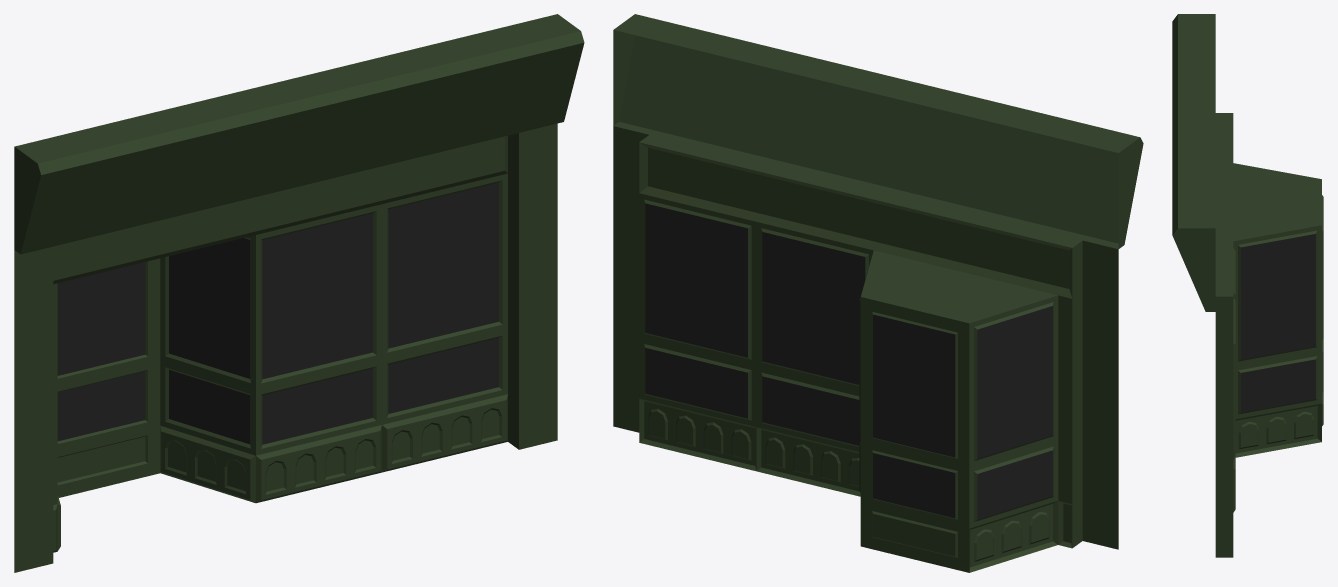
Rendered from ShopFrontB.fbx.
The picture shows the model from 3 angles, left to right: view 1: azimuth 30°, elevation 25°; view 2: azimuth 150°, elevation 25°; view 3: azimuth 270°, elevation 25°; orthographic projection. The views are drawn at different scales.
Visible parts, largest first — view 1: ShopFrontB; view 2: ShopFrontB; view 3: ShopFrontB.
Part boxes in pixels (x1=…): ShopFrontB: x1=14, y1=14, x2=584, y2=572; ShopFrontB: x1=613, y1=14, x2=1143, y2=572; ShopFrontB: x1=1172, y1=14, x2=1323, y2=557.
Bounding box in the file's own units: 400 × 300 × 119.
